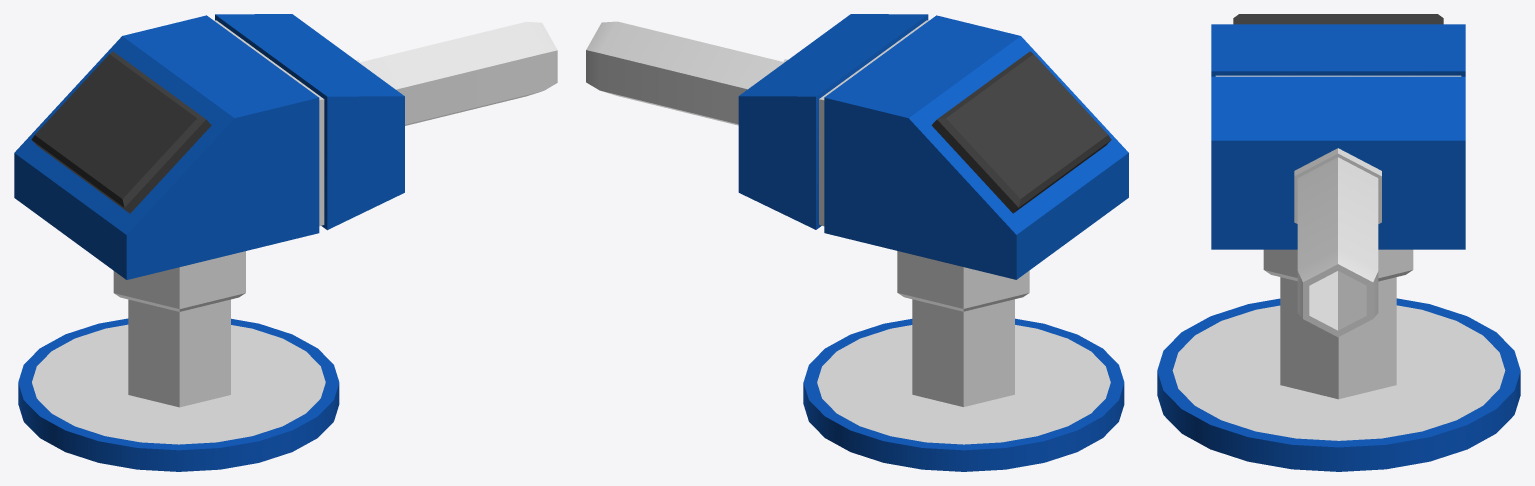
File: Turret_var1.fbx
3 views of the same model, side by side, from view 1: azimuth 30°, elevation 25°; view 2: azimuth 150°, elevation 25°; view 3: azimuth 270°, elevation 25° (orthographic). The views are drawn at different scales.
Visible parts, largest first — view 1: Turret_var1_mainbody, Turret_var1_stand, Turret_var1_bridge; view 2: Turret_var1_mainbody, Turret_var1_stand, Turret_var1_bridge; view 3: Turret_var1_mainbody, Turret_var1_stand, Turret_var1_bridge.
Part boxes in pixels (left/top/right/bottom): Turret_var1_mainbody: left=14, top=14, right=557, bottom=279; Turret_var1_stand: left=18, top=318, right=339, bottom=471; Turret_var1_bridge: left=113, top=251, right=245, bottom=407; Turret_var1_mainbody: left=586, top=14, right=1128, bottom=279; Turret_var1_stand: left=803, top=318, right=1124, bottom=471; Turret_var1_bridge: left=897, top=251, right=1029, bottom=406; Turret_var1_mainbody: left=1211, top=14, right=1465, bottom=337; Turret_var1_stand: left=1157, top=298, right=1520, bottom=471; Turret_var1_bridge: left=1263, top=249, right=1413, bottom=399.
Bounding box in the file's own units: 3.61 × 2.25 × 2.
Materials: 1 (1 with a texture image).
